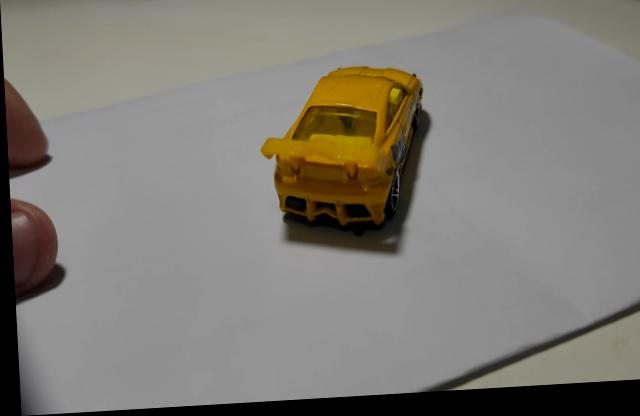07_RHLTURBO: (260, 71, 422, 242)
